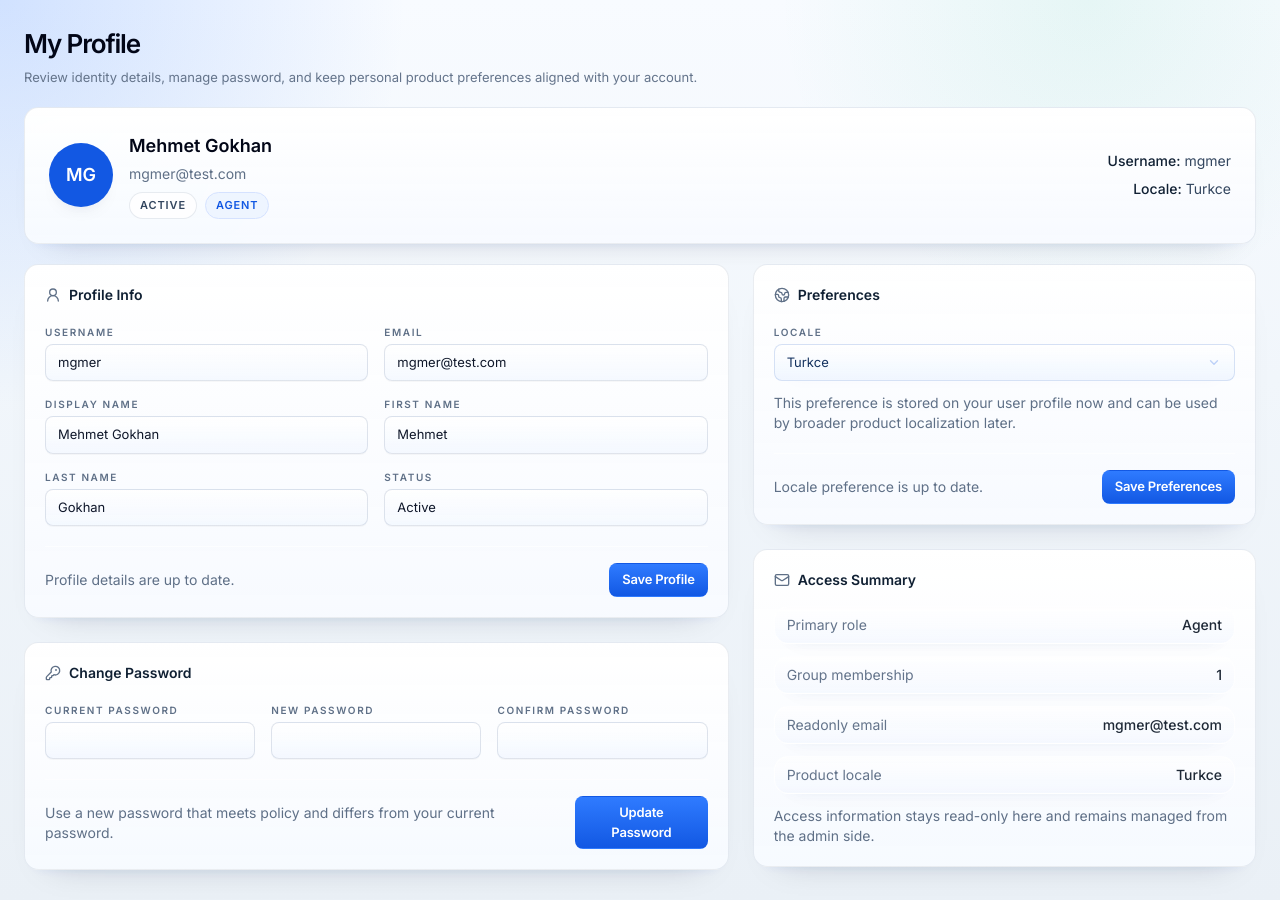
ProfilePage › validates password confirmation mismatch
Type "Current123" into the password field labelled "Current Password" at (150, 740), box [45, 722, 255, 759]
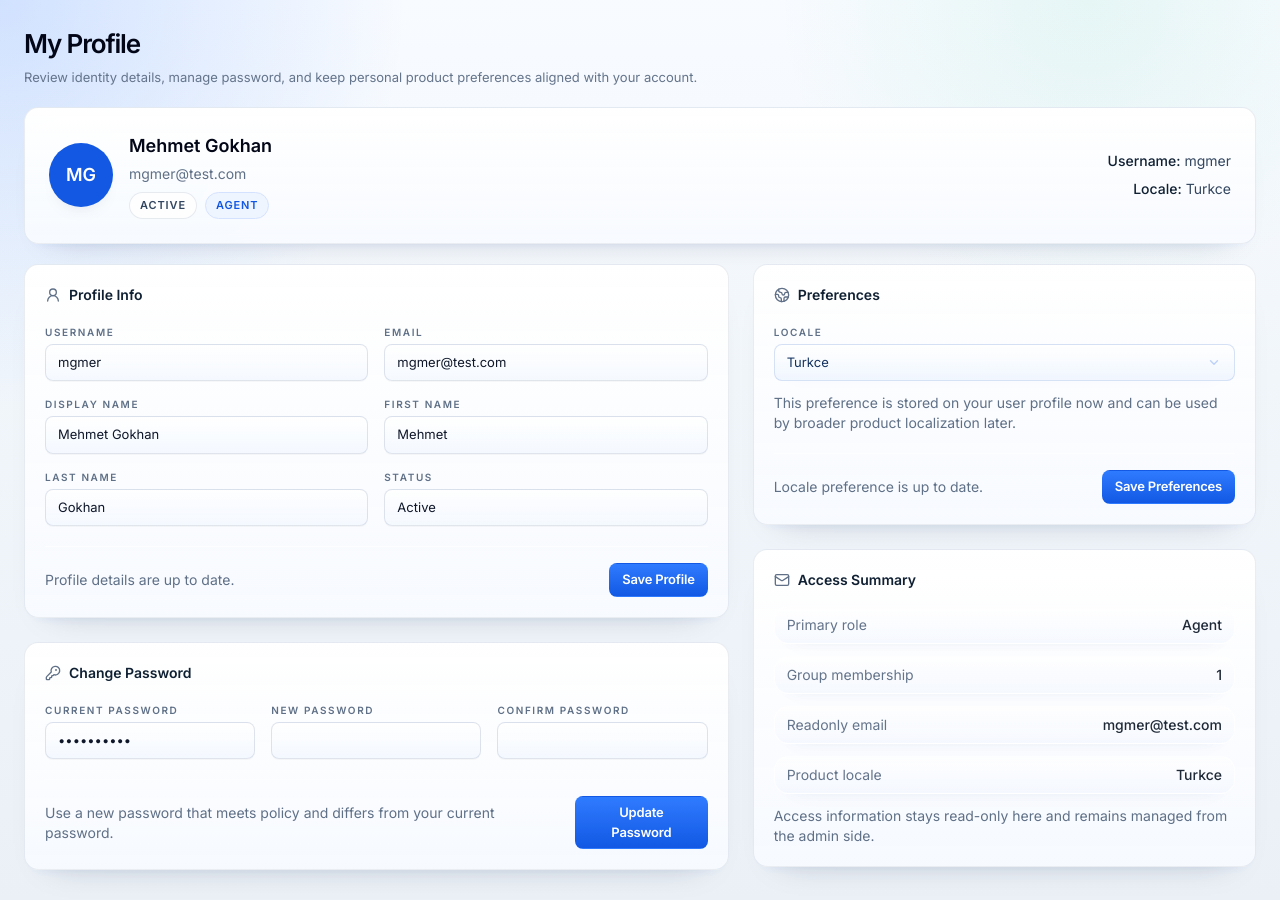
Type "NewPass123" into the password field labelled "New Password" at (376, 740), box [271, 722, 481, 759]
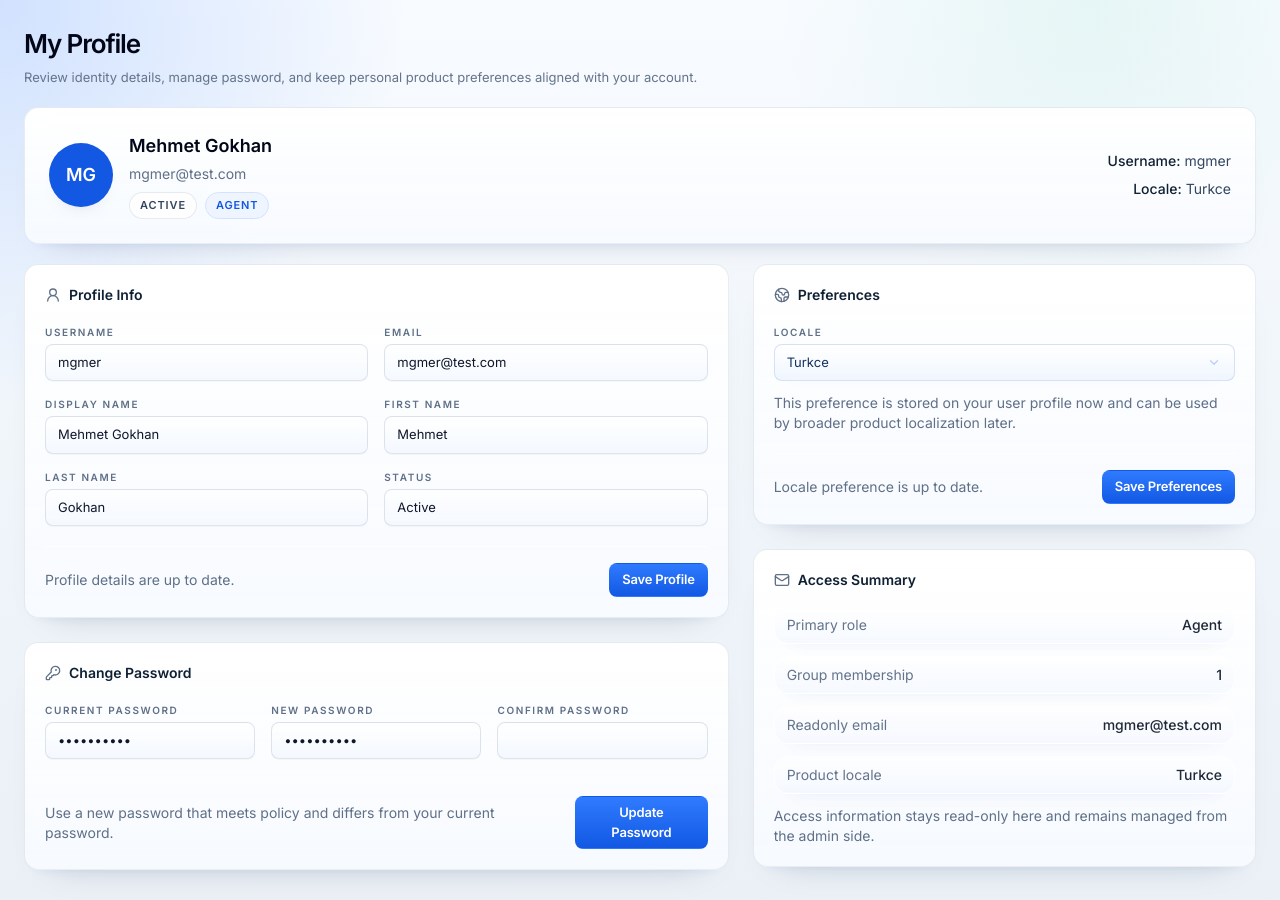
Type "Mismatch123" into the password field labelled "Confirm Password" at (602, 740), box [497, 722, 708, 759]
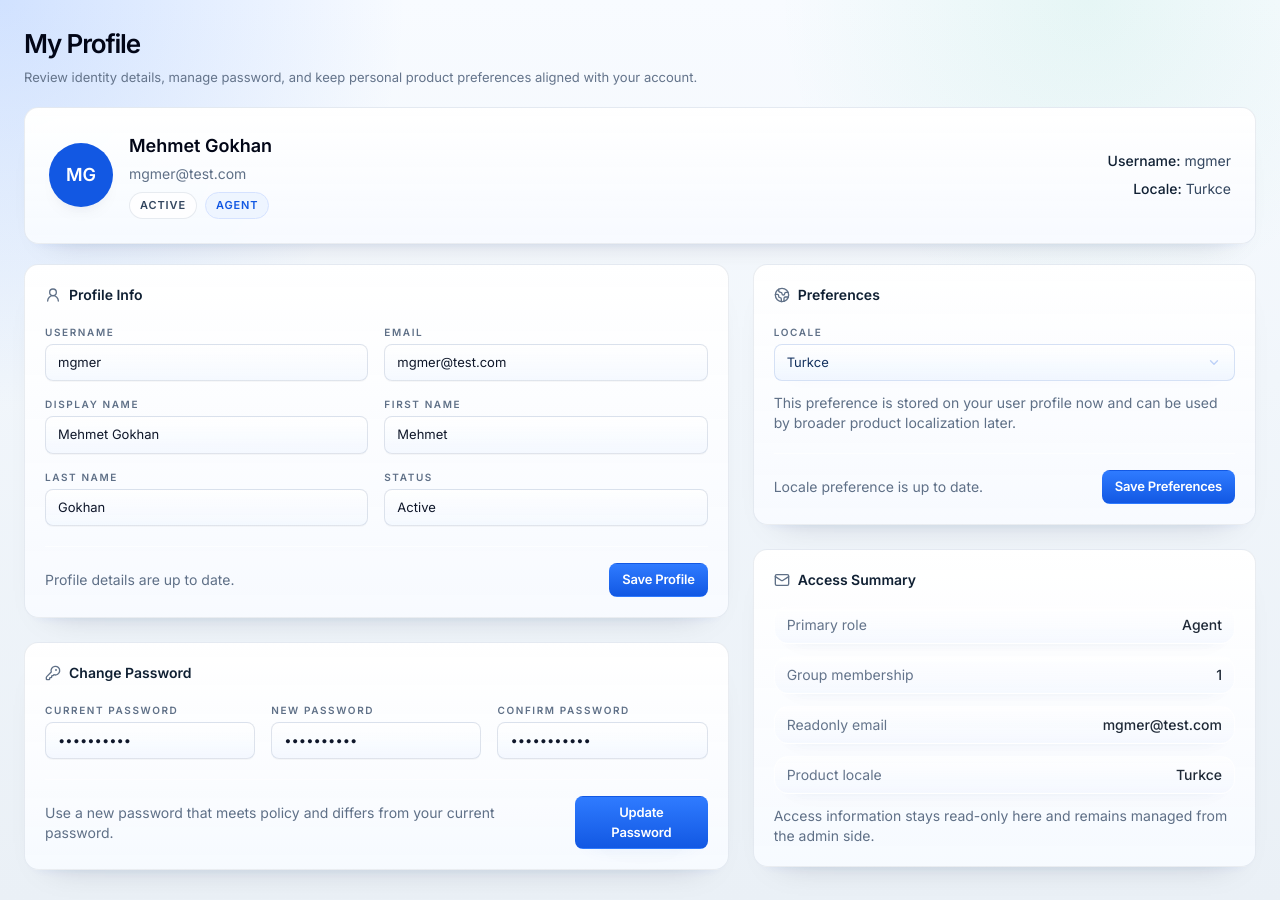
Click the button "Update Password" at (641, 822), box [575, 796, 708, 849]
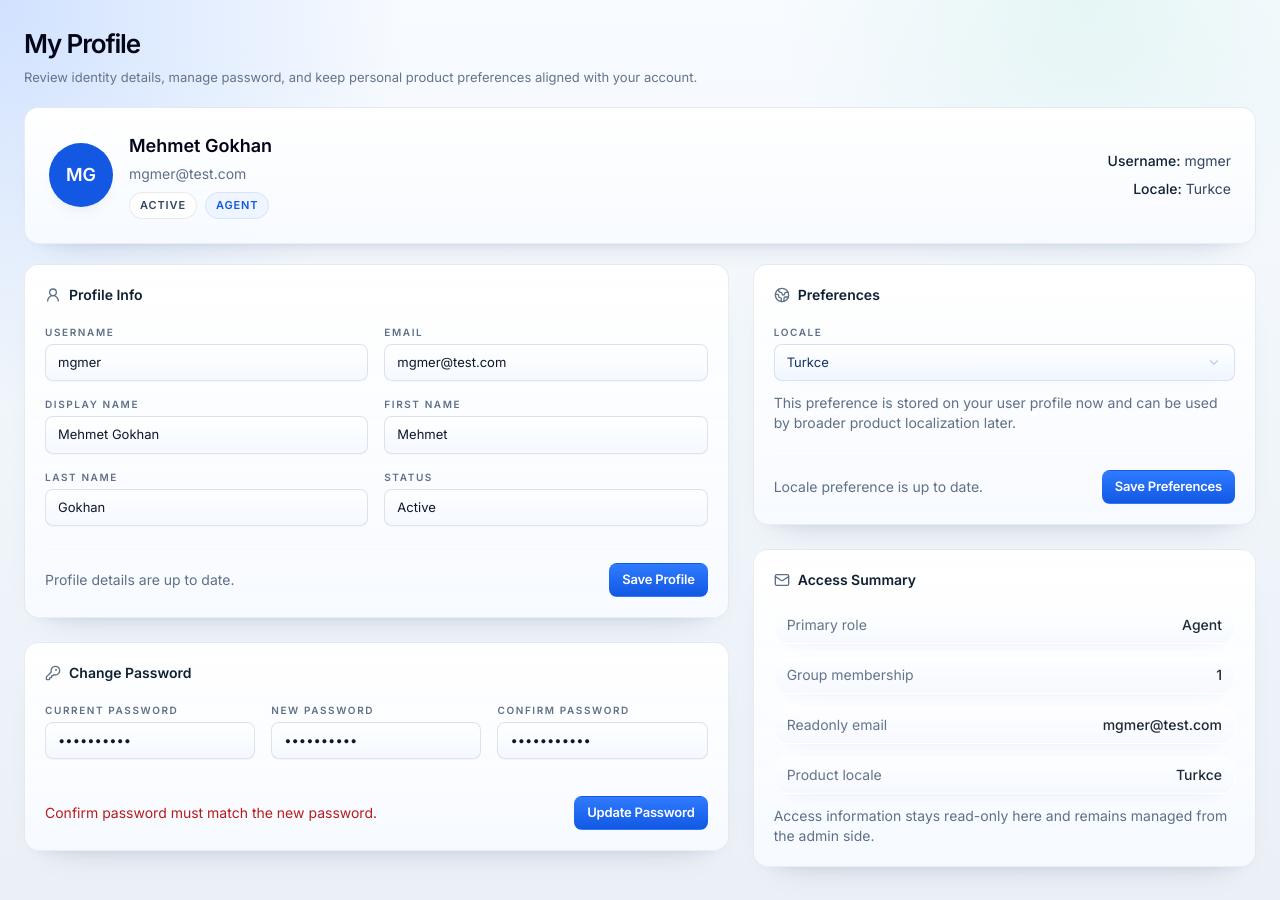
Result: the text "Confirm password must match the new password." is shown at [45, 804, 377, 821]
